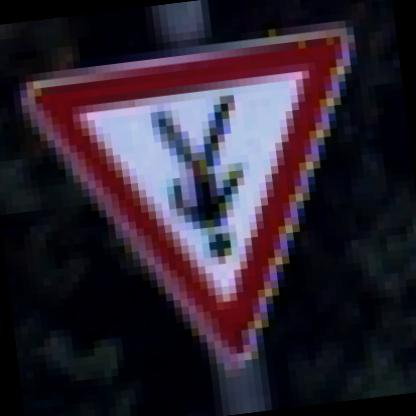crosswalk: (0, 0, 400, 408)
